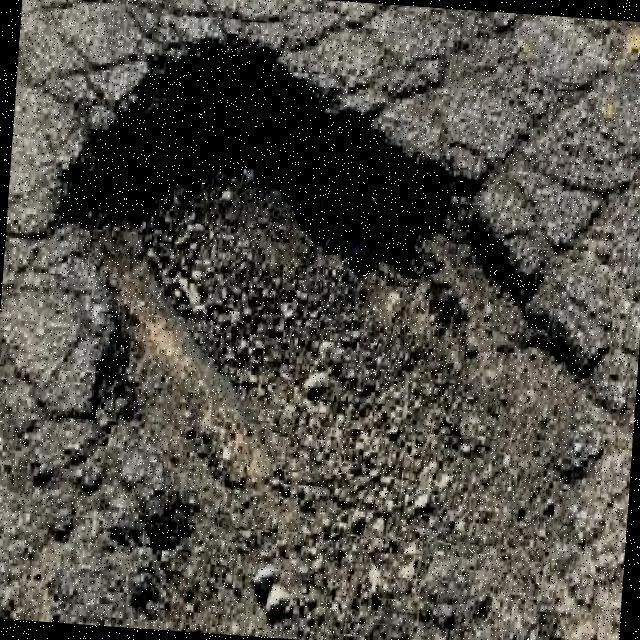Pothole: (47, 37, 634, 640)
